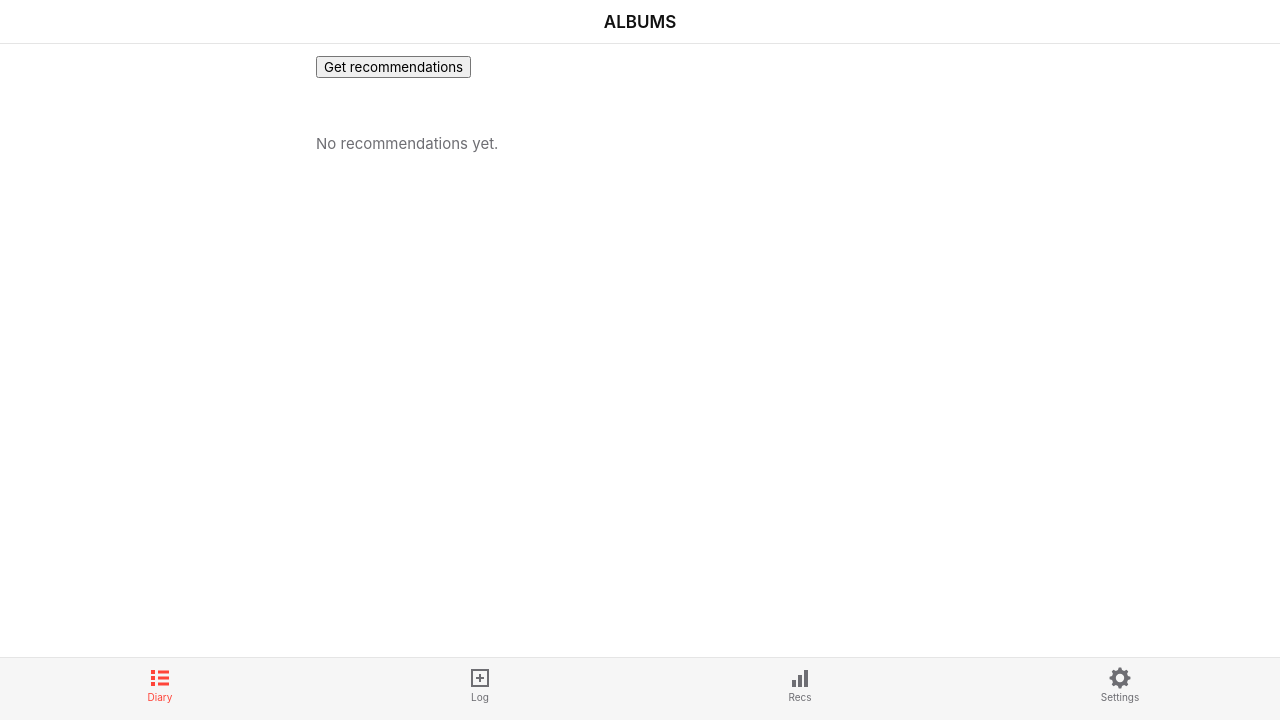
Test case: Recs › shows a human error message when generation fails
Check: the text "No recommendations yet." is shown, box [316,134,498,153]
Click the button "Get recommendations".
click(394, 67)  # box [316,56,471,78]
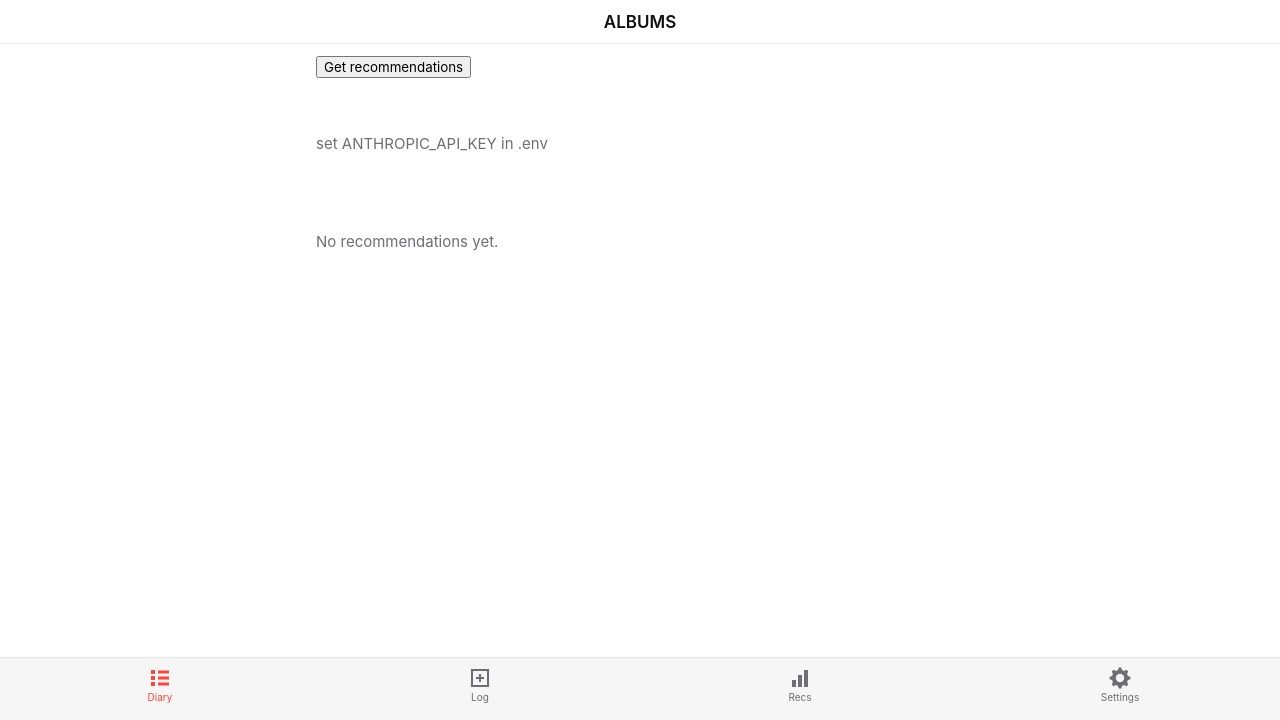
Check: the text "set ANTHROPIC_API_KEY in .env" is shown, box [316,134,548,153]
